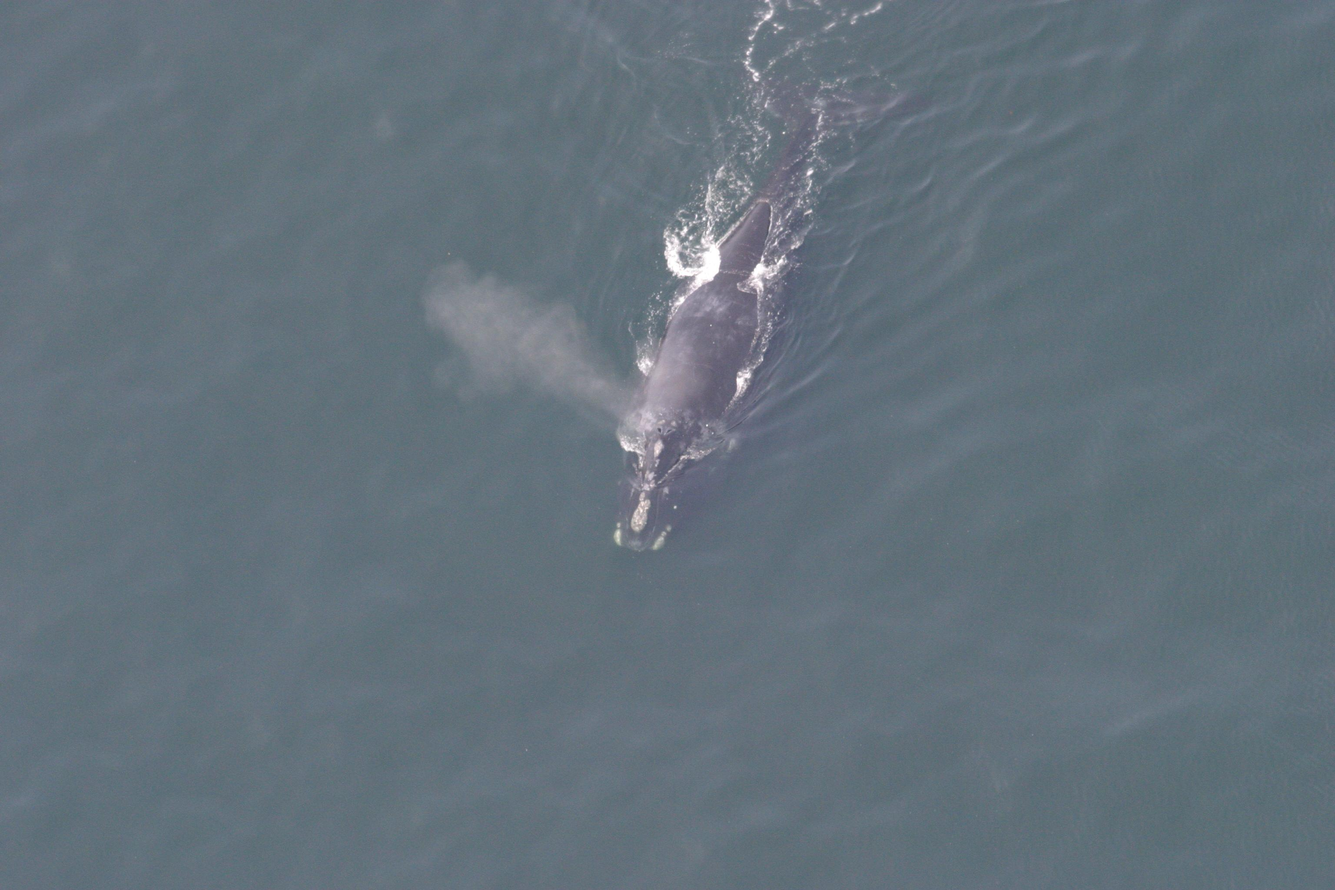whale: (601, 60, 943, 562)
